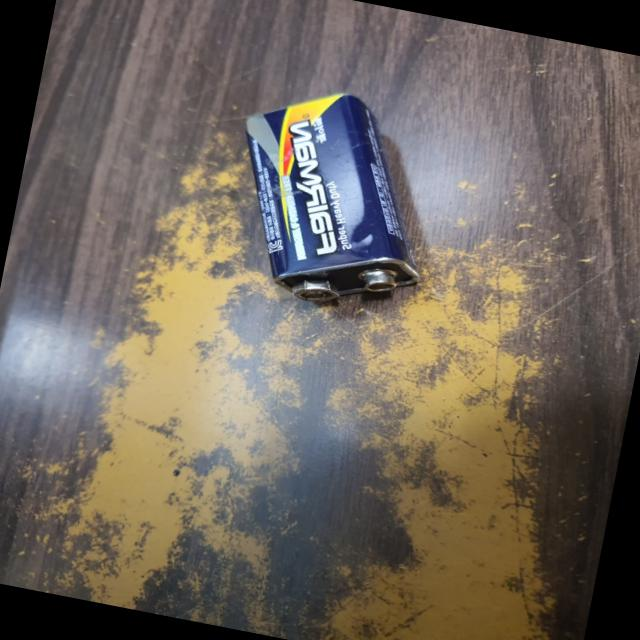battery-etc-etc: (212, 75, 452, 322)
